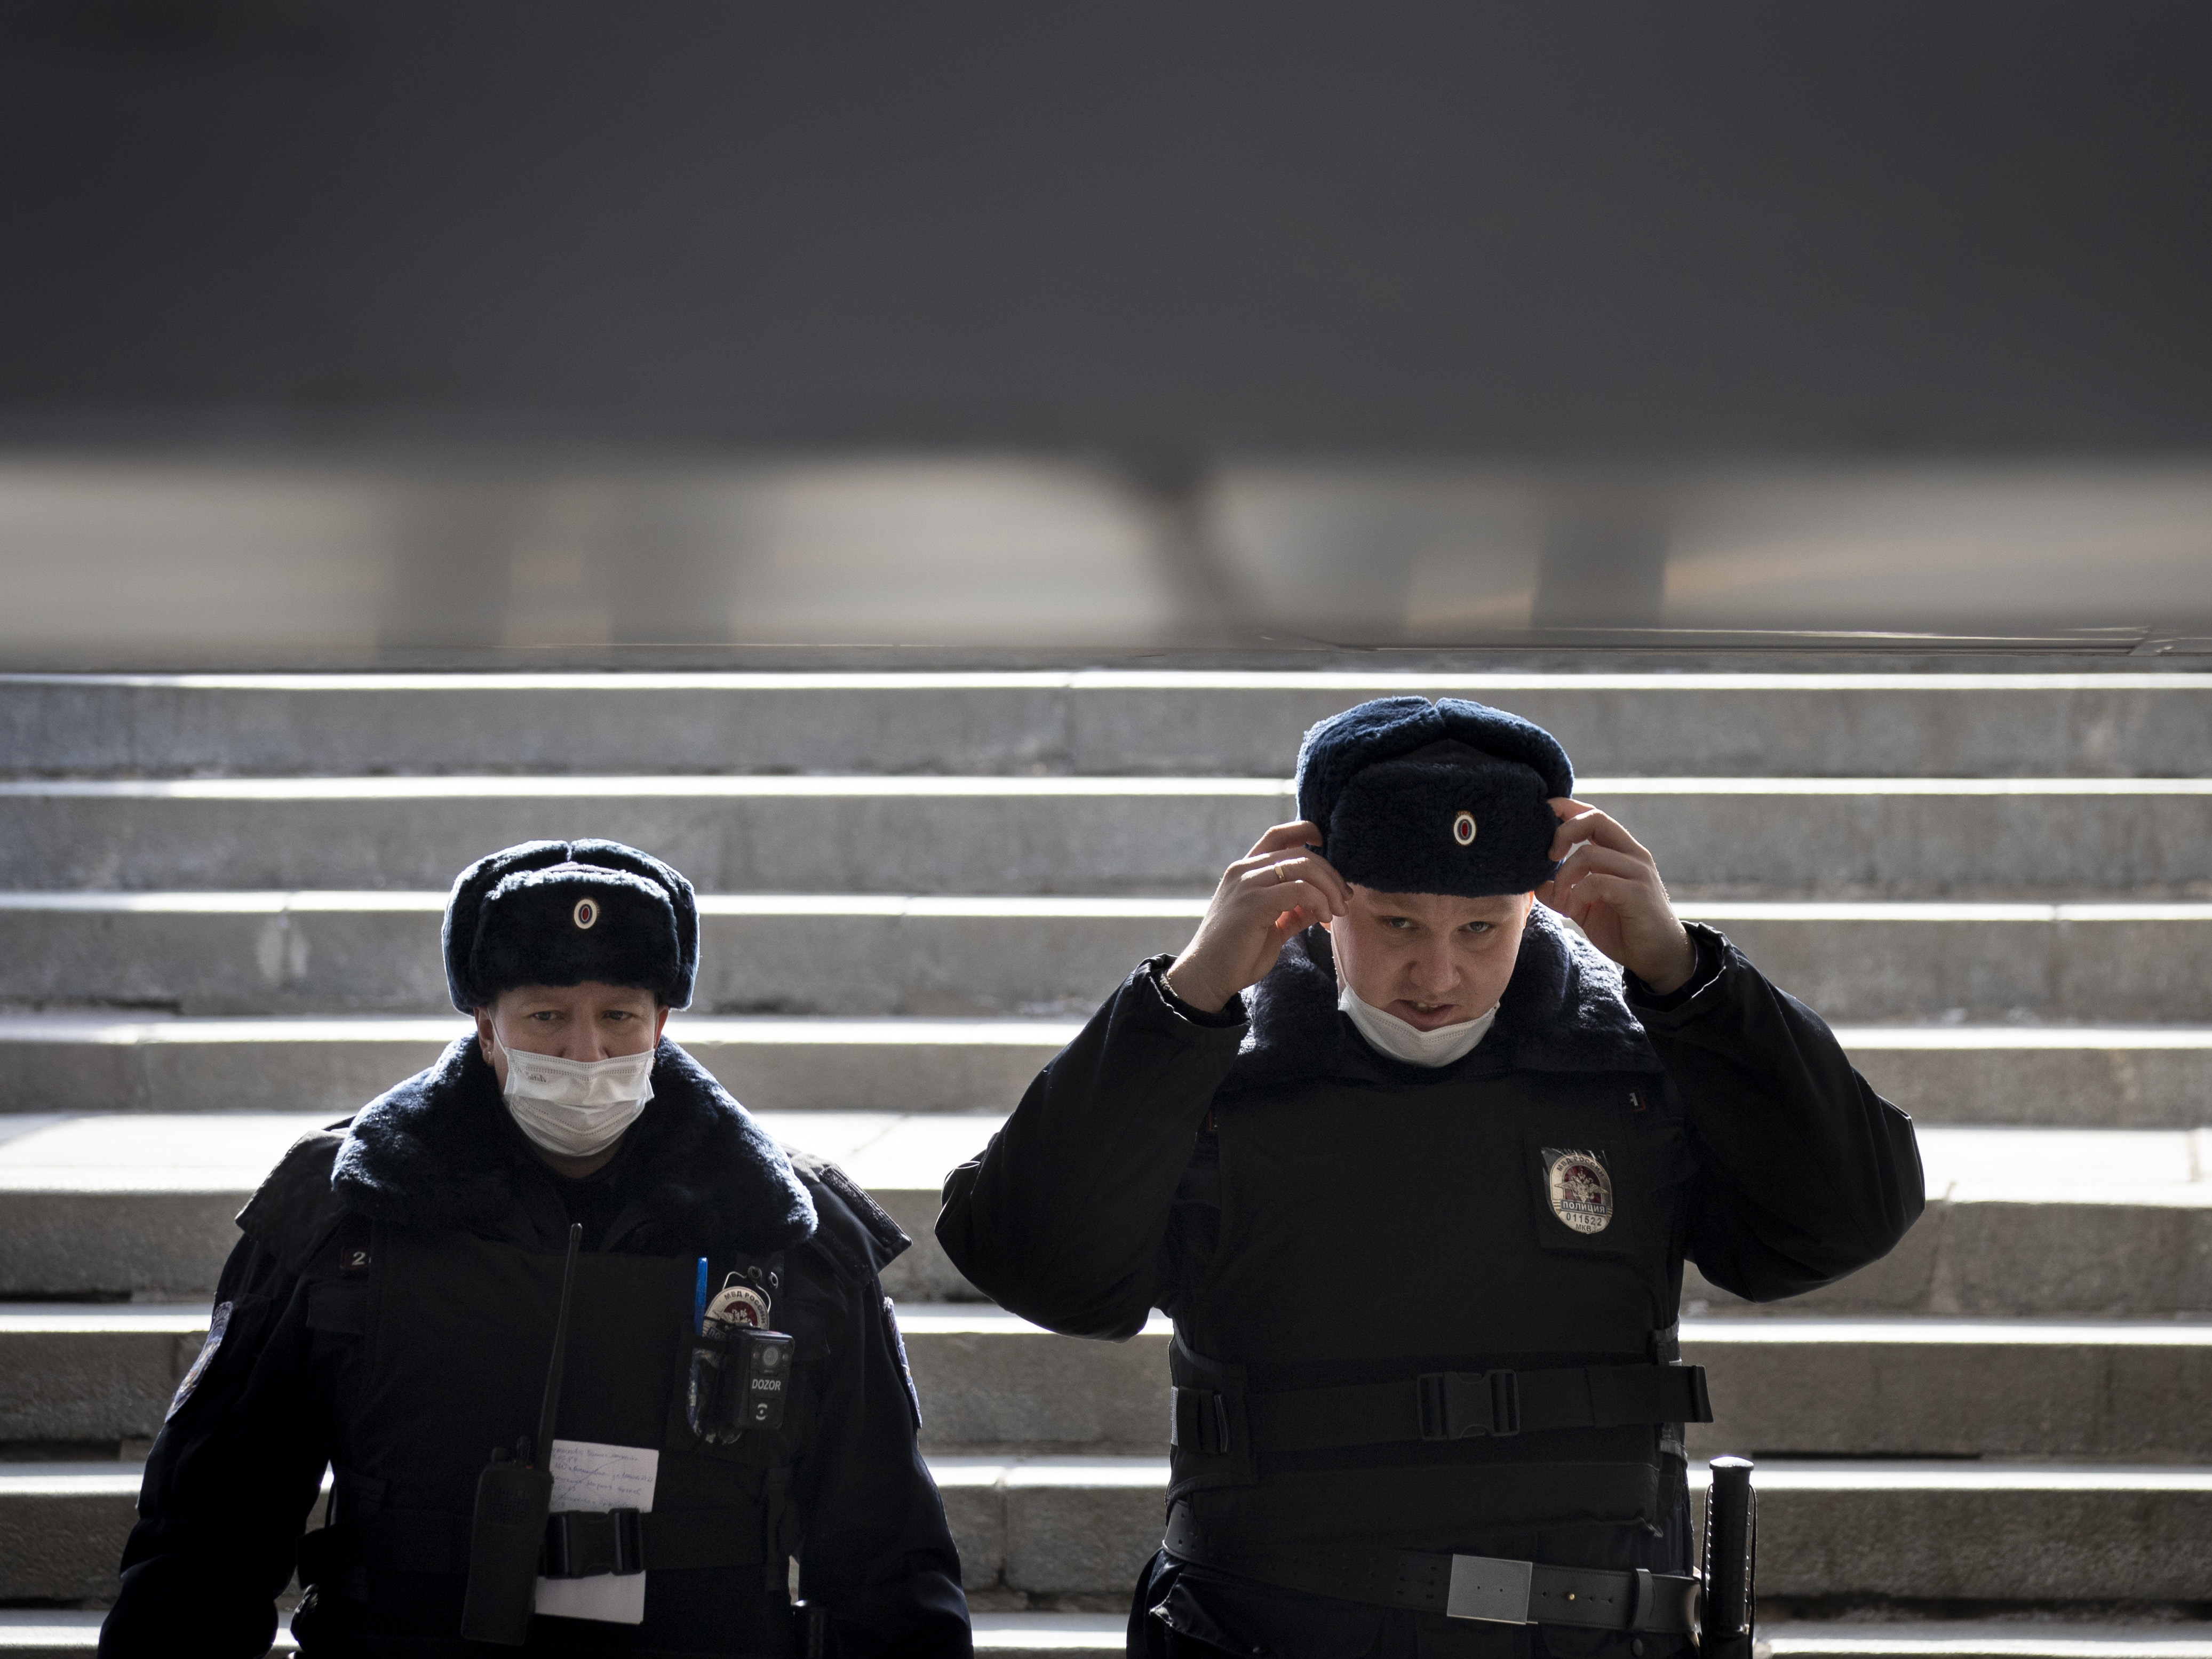with_incorrect_mask: (1340, 900, 1510, 1048)
with_mask: (502, 992, 654, 1131)
